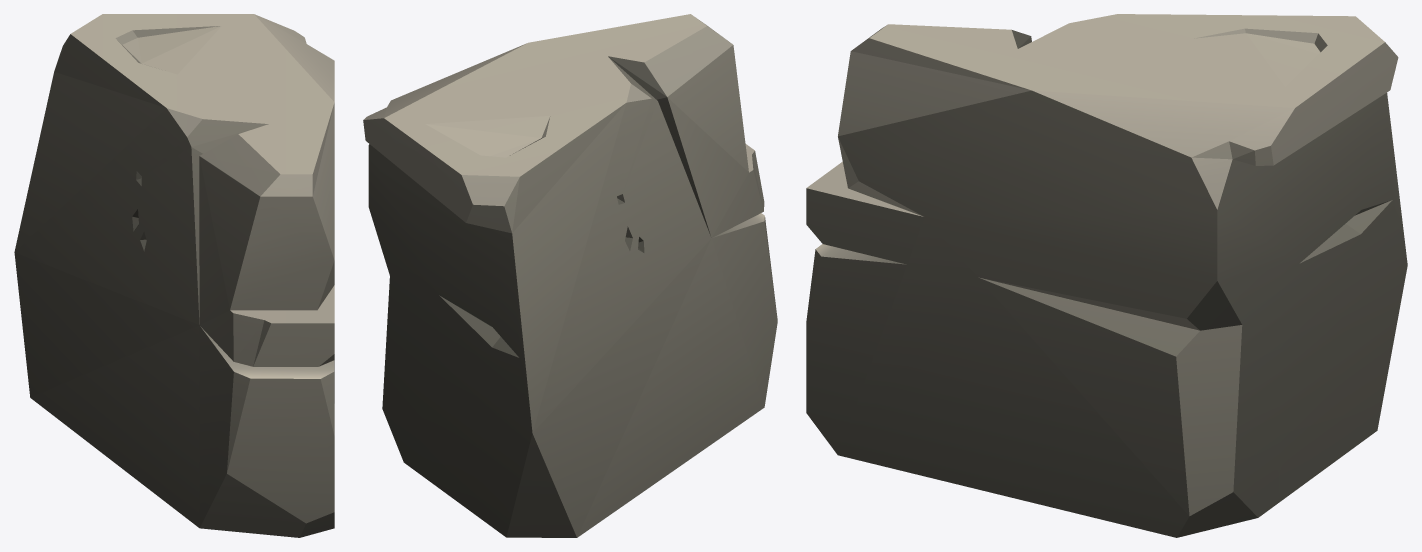
File: Rock_Medium_3A.fbx
3 views of the same model, side by side, from view 1: azimuth 30°, elevation 25°; view 2: azimuth 150°, elevation 25°; view 3: azimuth 270°, elevation 25° (orthographic). The views are drawn at different scales.
Visible parts, largest first — view 1: Rock_Medium_3A; view 2: Rock_Medium_3A; view 3: Rock_Medium_3A.
Boxes of the visible parts, box(x1,y1,x2,y2) form: Rock_Medium_3A: box(14, 14, 334, 537); Rock_Medium_3A: box(363, 14, 777, 537); Rock_Medium_3A: box(806, 14, 1407, 537).
Bounding box in the file's own units: 1.31 × 1.66 × 2.2.
